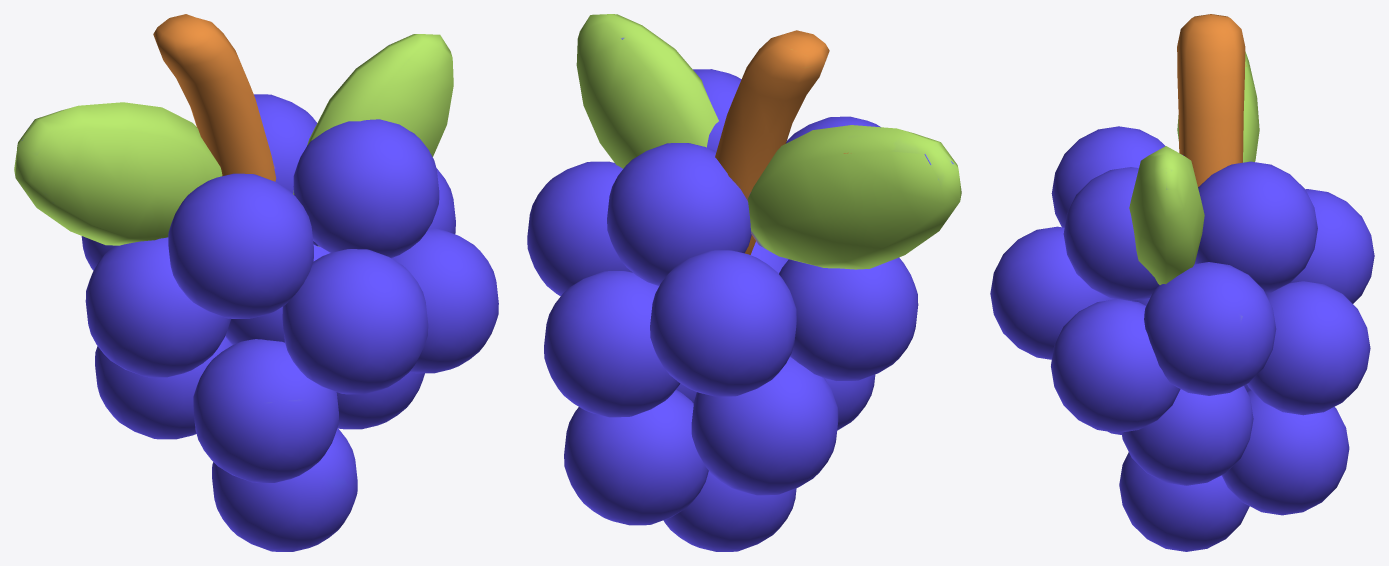
File: uvas uv.fbx
3 views of the same model, side by side, from view 1: azimuth 30°, elevation 25°; view 2: azimuth 150°, elevation 25°; view 3: azimuth 270°, elevation 25° (orthographic). The views are drawn at different scales.
Parts seen in each view (by area): view 1: uvas; view 2: uvas; view 3: uvas.
Boxes of the visible parts, x1,y1,x2,y2 form: uvas: (14,14,498,551); uvas: (527,14,961,551); uvas: (990,14,1374,551).
Bounding box in the file's own units: 318 × 384 × 272.
